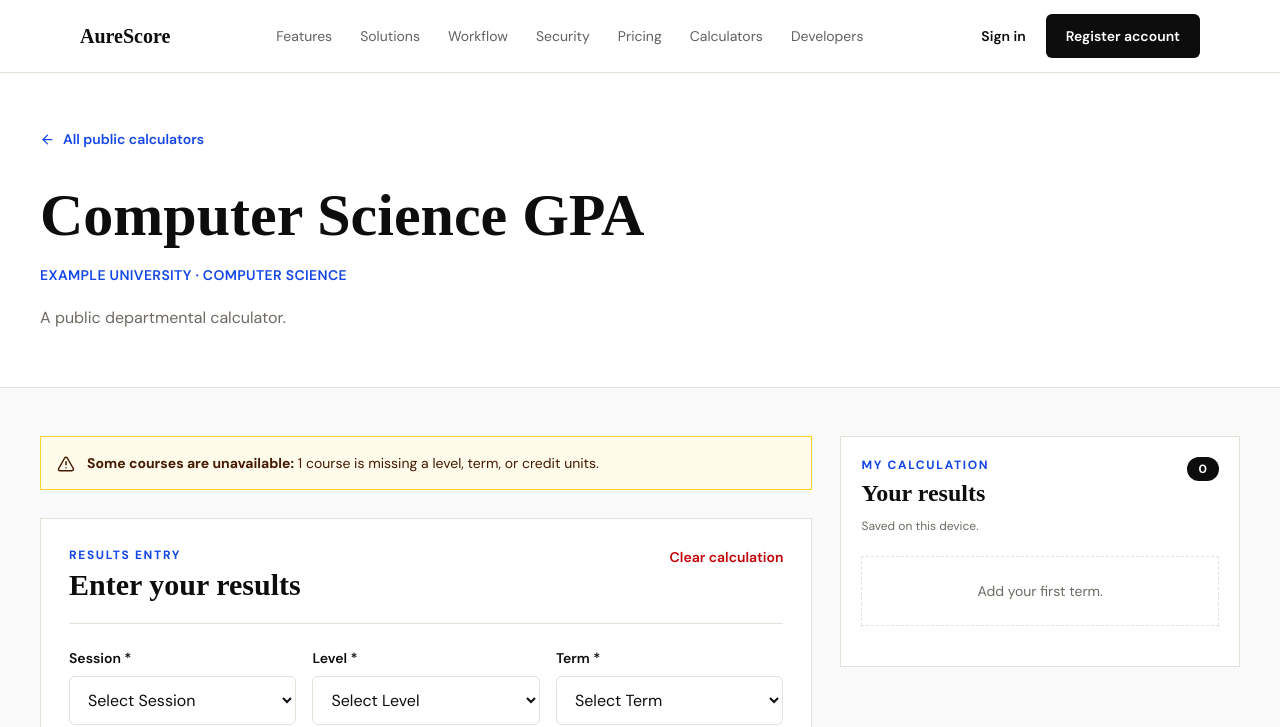
it: public calculator UI › shows a backend 400 calculation error
Select "2026/2027" in the dropdown labelled "Session *" at [183, 700], box [69, 676, 296, 724]
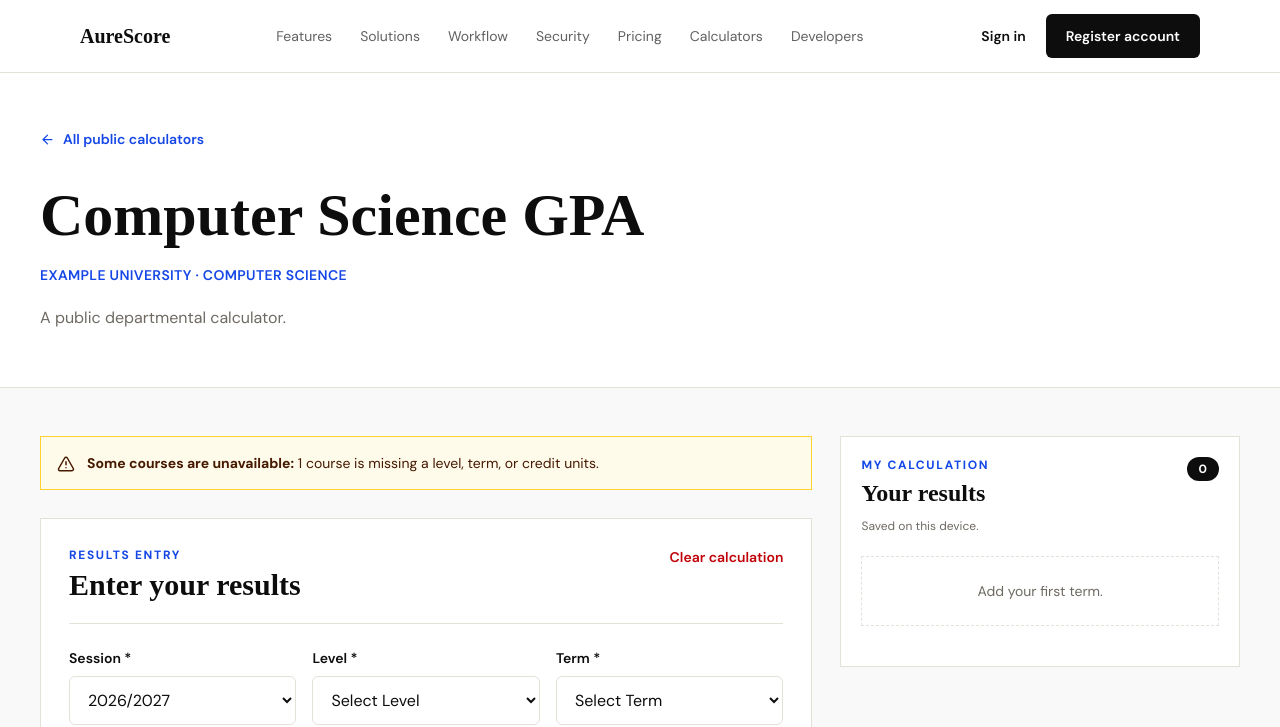
Select "100 Level" in the dropdown labelled "Level *" at [426, 700], box [312, 676, 540, 724]
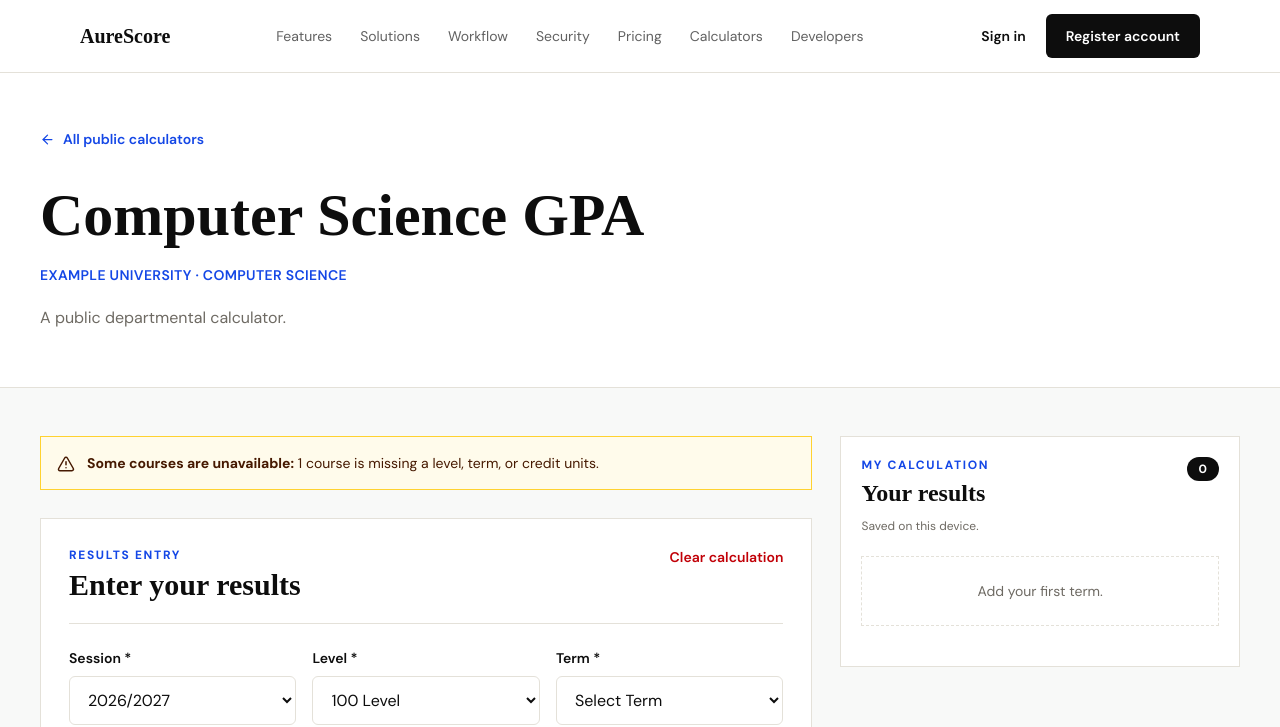
Select "First Semester" in the dropdown labelled "Term *" at [670, 700], box [556, 676, 784, 724]
(page scrolled)
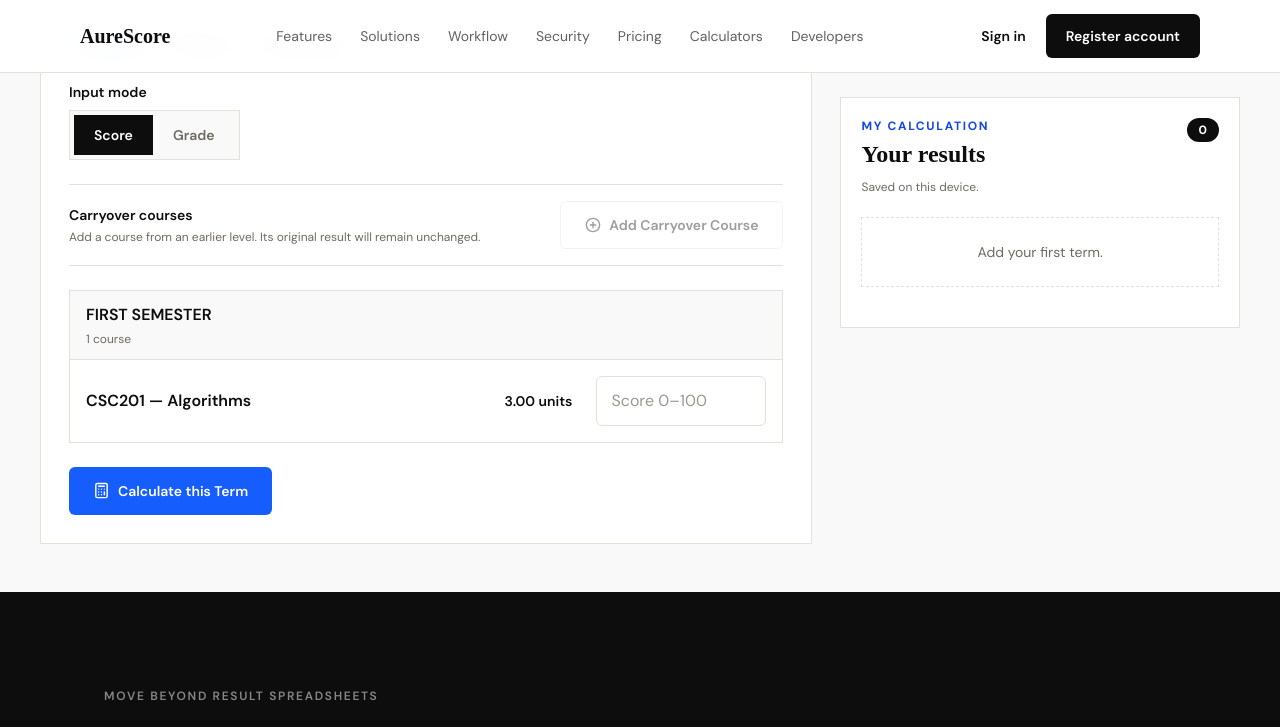
Type "68" into the number field named "Score for Algorithms".
click(682, 400); type("68")  # box [596, 376, 766, 426]
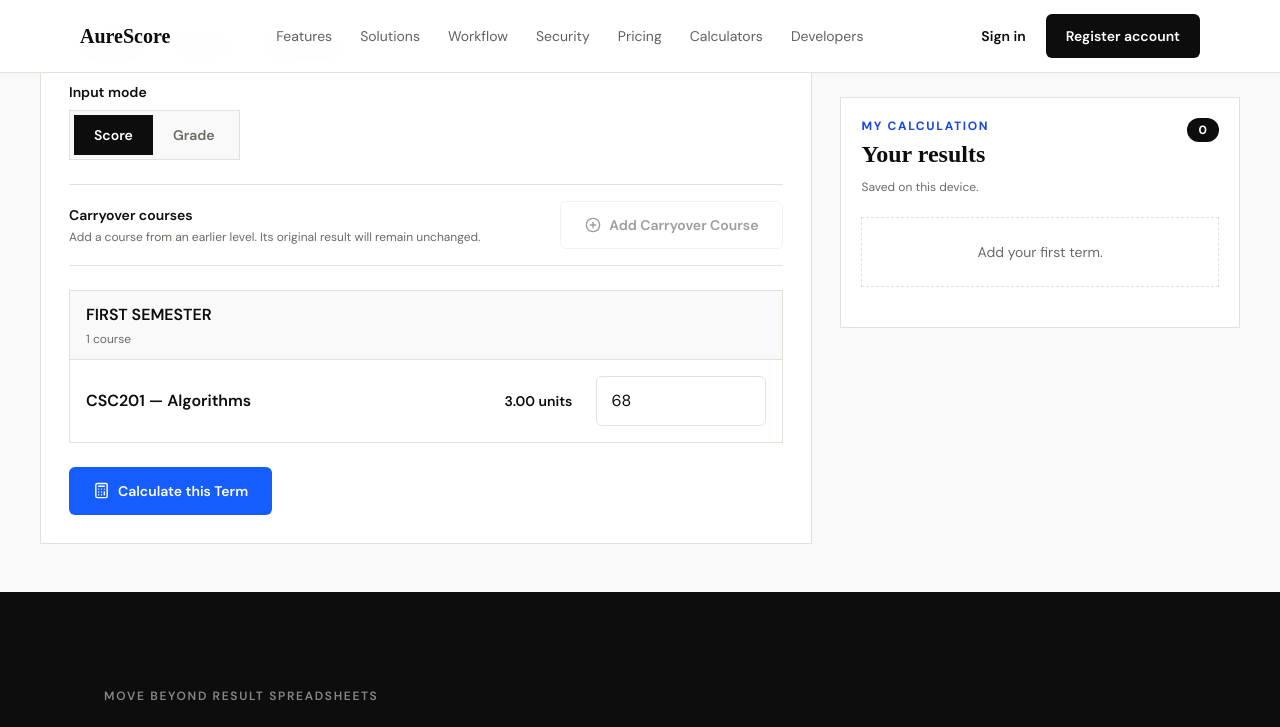
Click the button "Calculate this Term".
click(171, 490)  # box [69, 466, 272, 514]
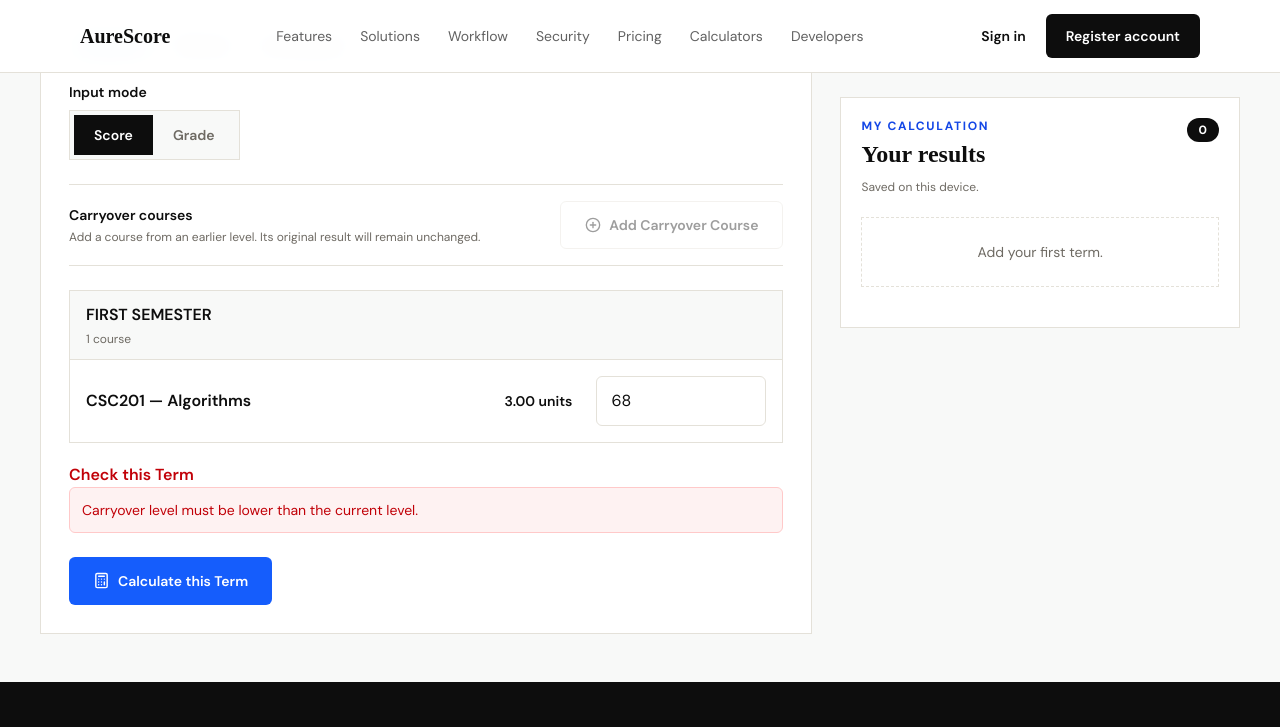
Expected: the text "Carryover level must be lower than the current level." is shown, [69, 486, 784, 532]
